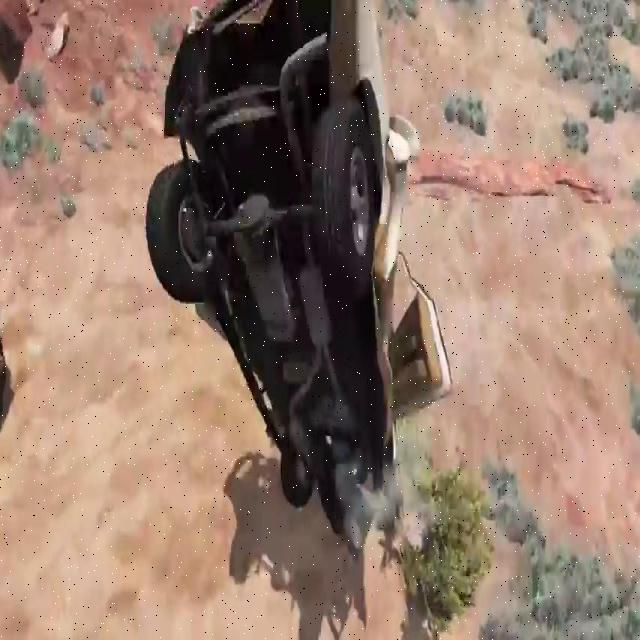severe: (142, 0, 448, 535)
